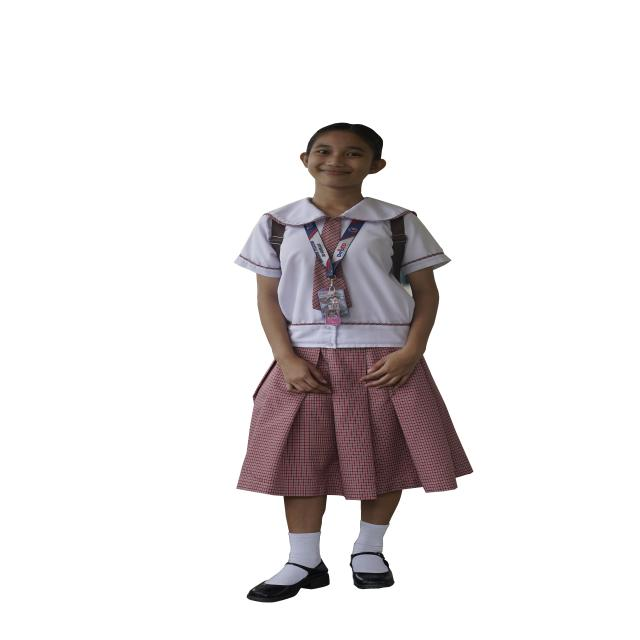id lace: (304, 221, 365, 280)
pologirl: (235, 197, 450, 348), (320, 218, 342, 256), (312, 264, 329, 309), (334, 265, 351, 304)
shoes: (247, 560, 330, 603), (350, 551, 394, 589)
skirt: (238, 347, 472, 500)
